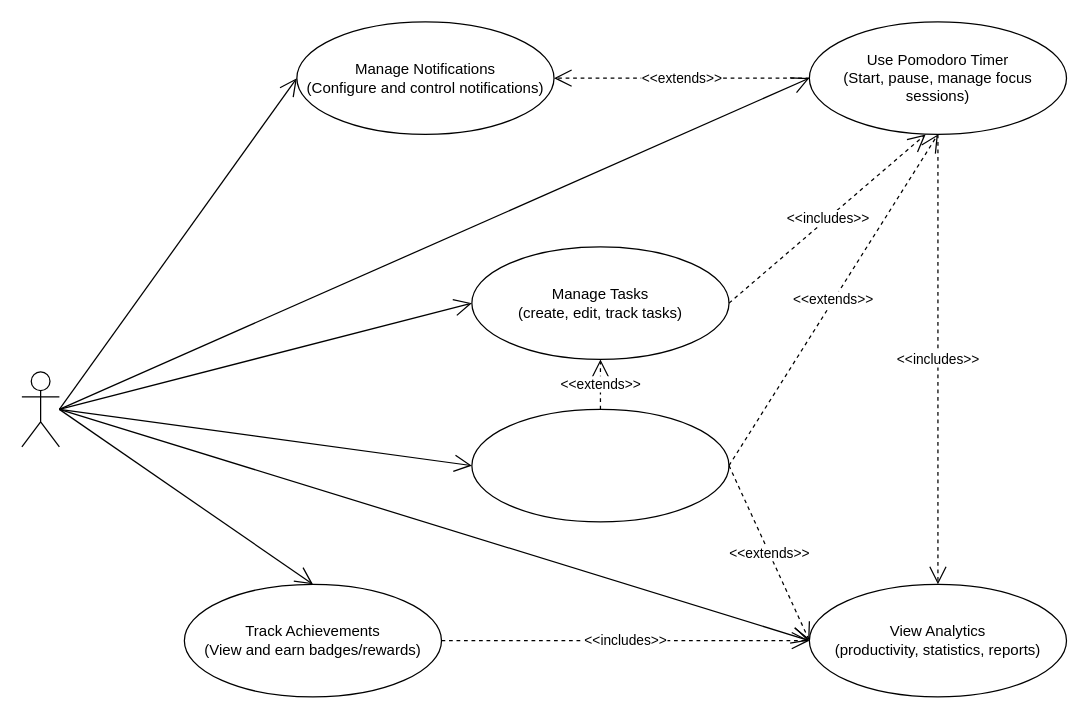
Some shapes in this 1089 by 719 pixel diagram are drawn without their labels. Each missing label, with the centre of its shape:
"Customize Theme (Change application appearance)" belongs at point 600,465.
"User" belongs at point 40,409.
